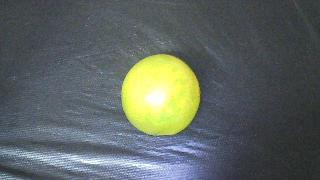LOCAL: (121, 54, 200, 136)
